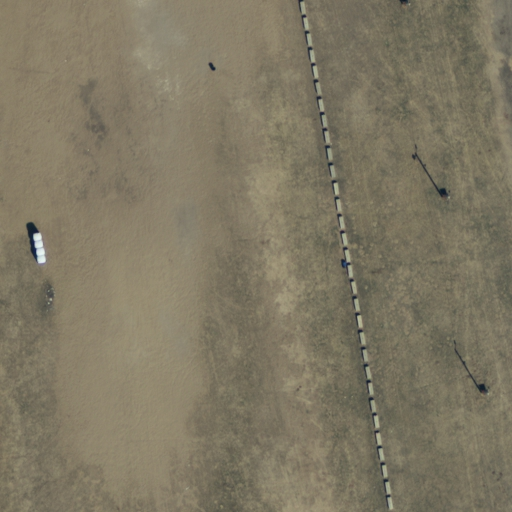DT: (471, 376, 500, 408), (434, 184, 458, 209)
